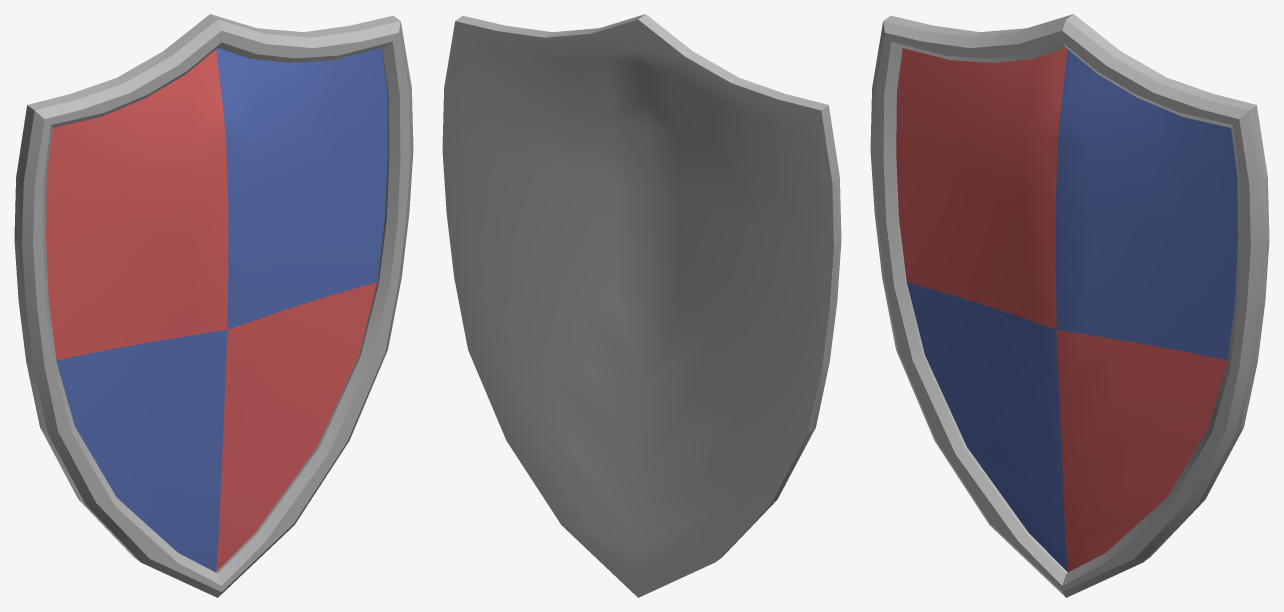
Rendered from knight_shield.fbx.
The picture shows the model from 3 angles, left to right: view 1: azimuth 30°, elevation 25°; view 2: azimuth 150°, elevation 25°; view 3: azimuth 330°, elevation 25°; orthographic projection.
Parts seen in each view (by area): view 1: knight_shield; view 2: knight_shield; view 3: knight_shield.
Part boxes in pixels (x1=…): knight_shield: x1=14, y1=14, x2=413, y2=597; knight_shield: x1=442, y1=14, x2=841, y2=597; knight_shield: x1=870, y1=14, x2=1269, y2=597.
Bounding box in the file's own units: 0.3903 × 0.551 × 0.0312.
